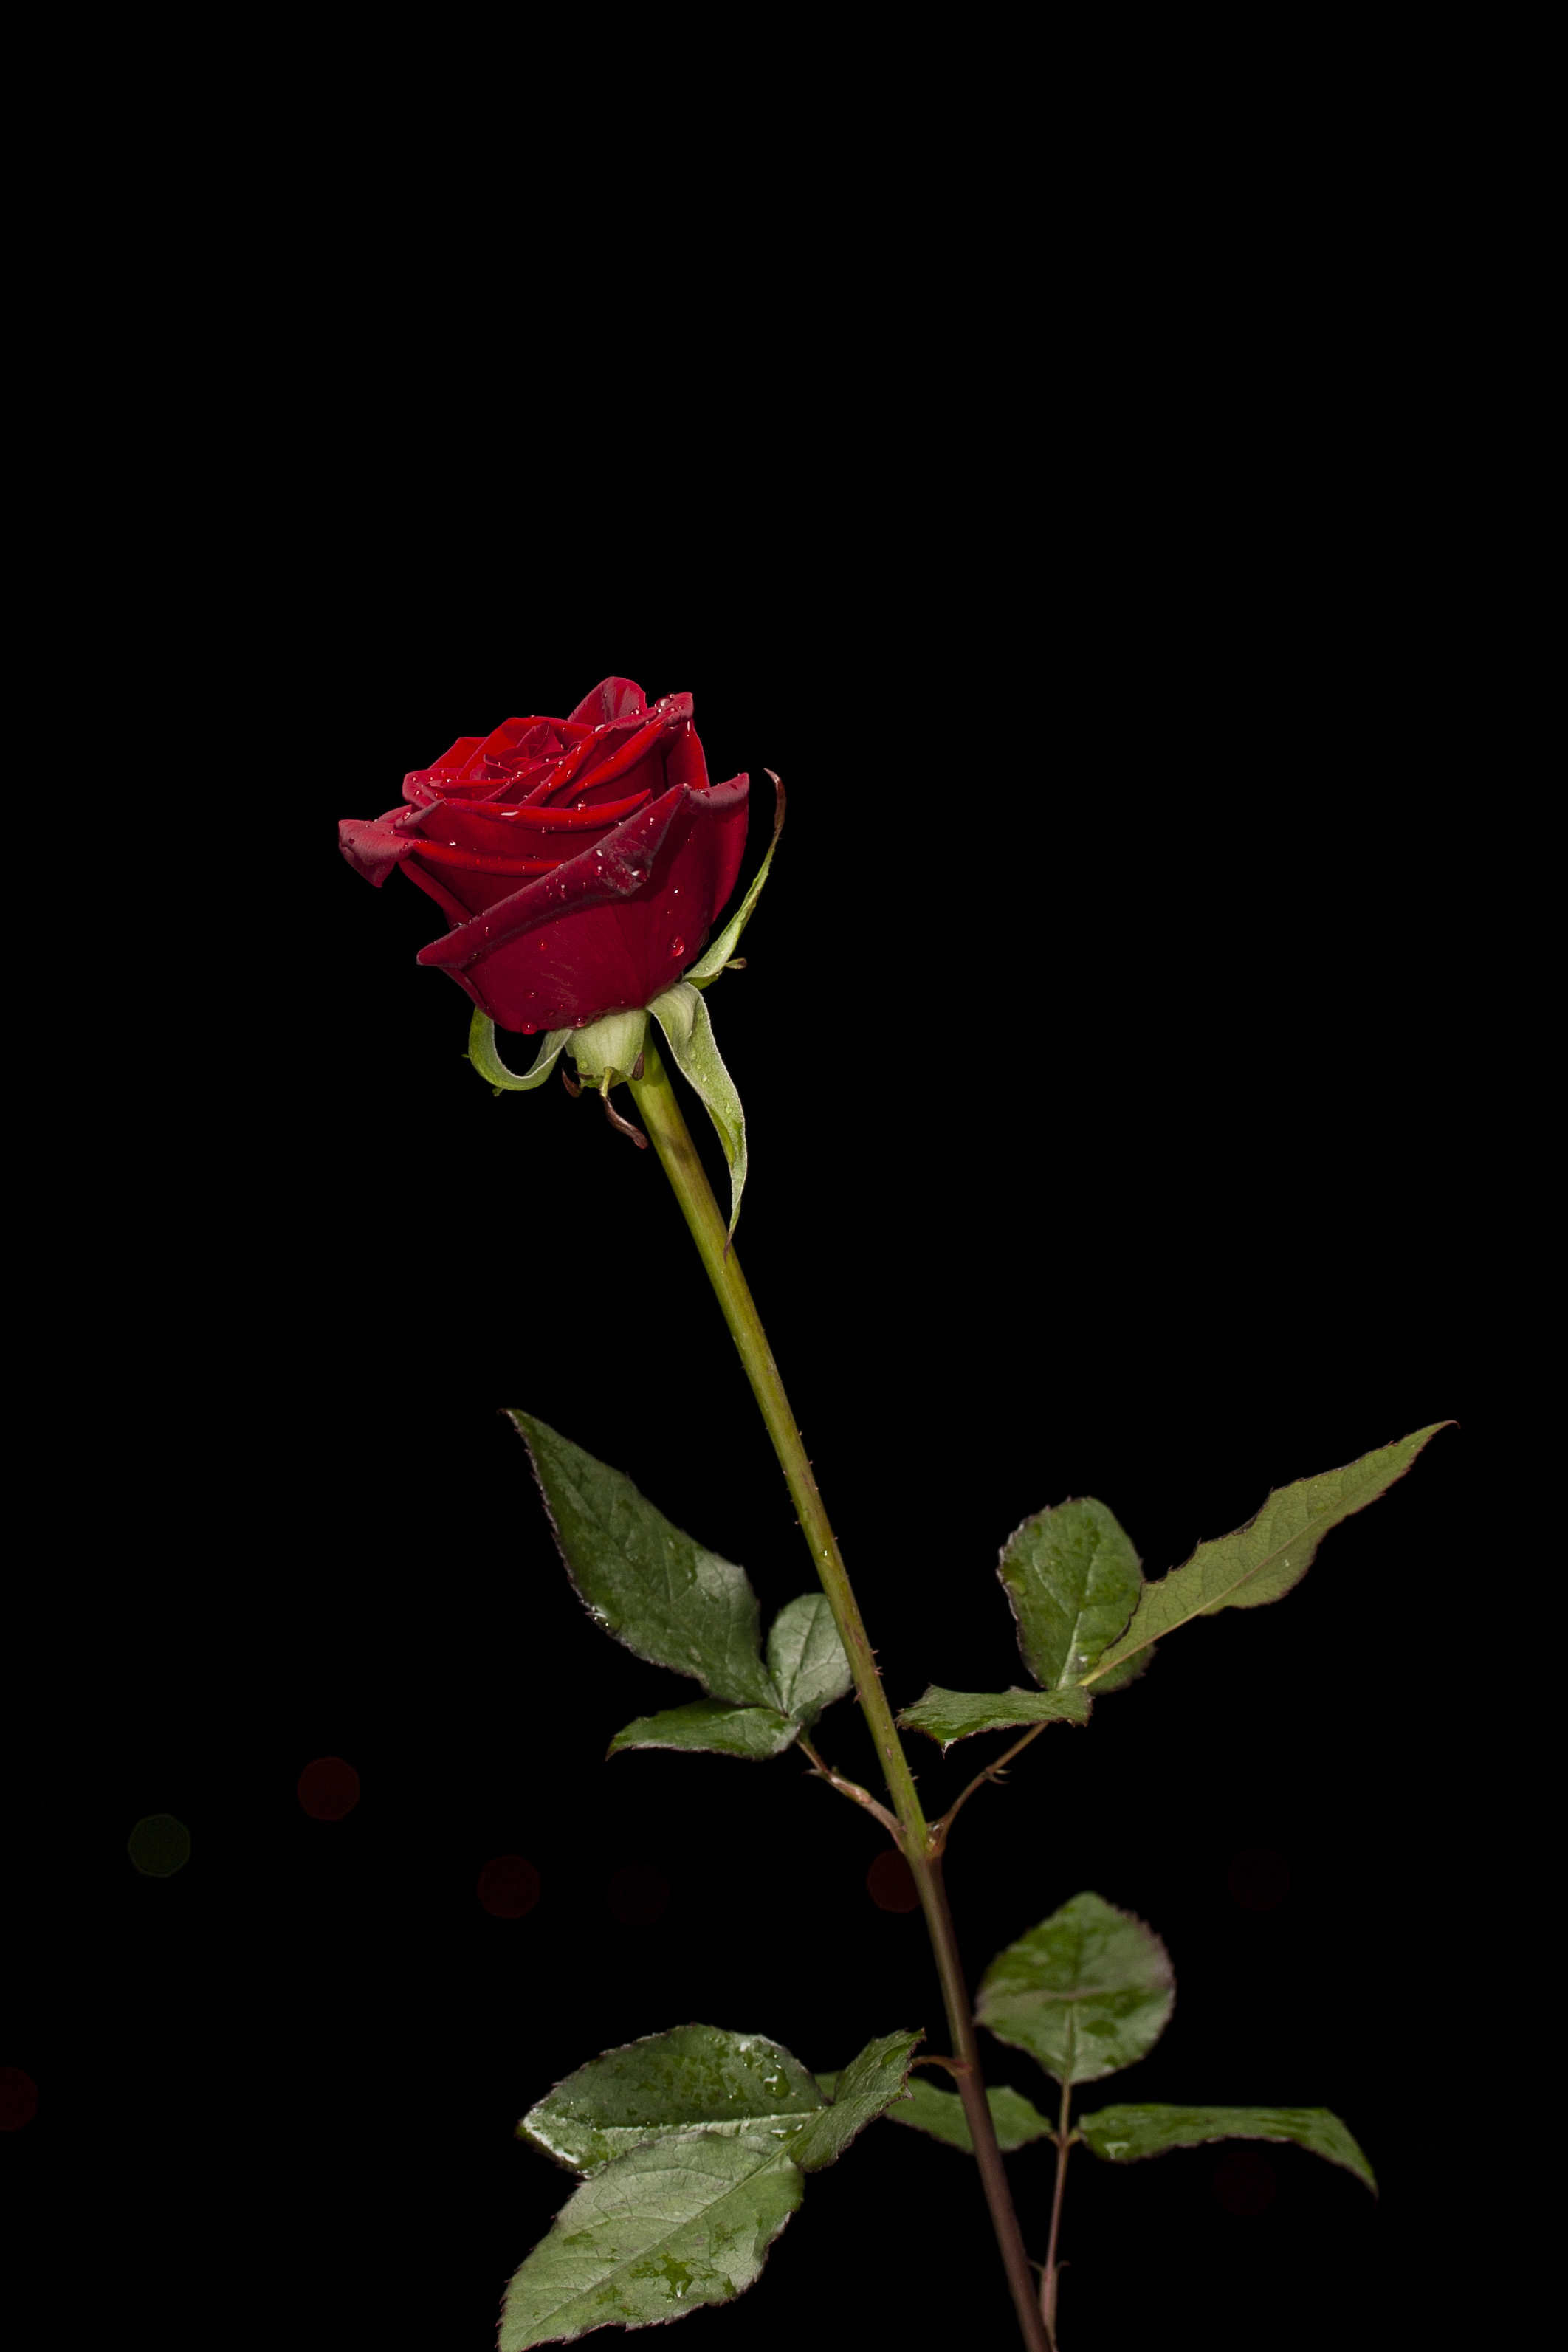rose: (271, 628, 837, 1109)
